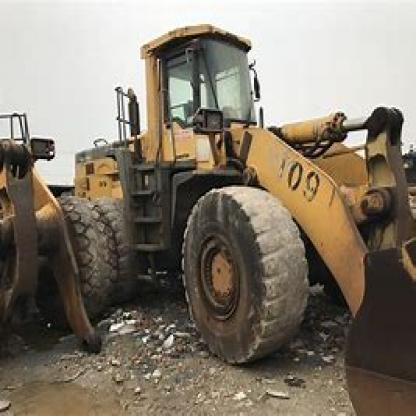bull_dozer/loader/grader: (50, 19, 414, 414)
